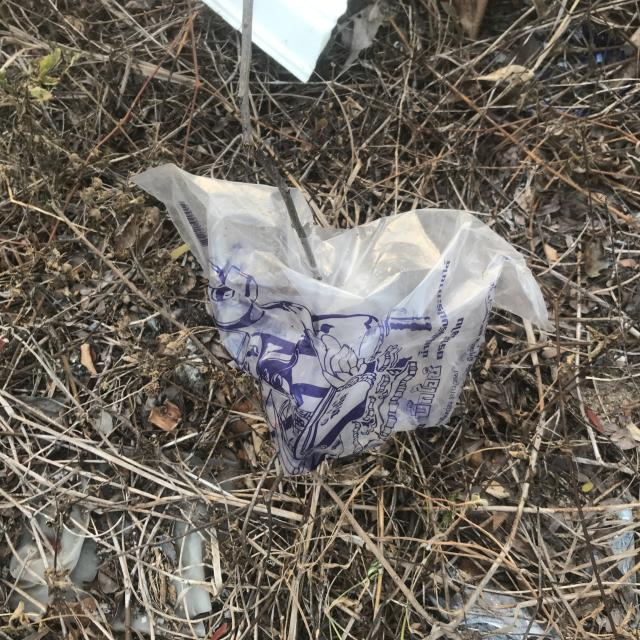Single-layer Plastic: (110, 145, 557, 493)
